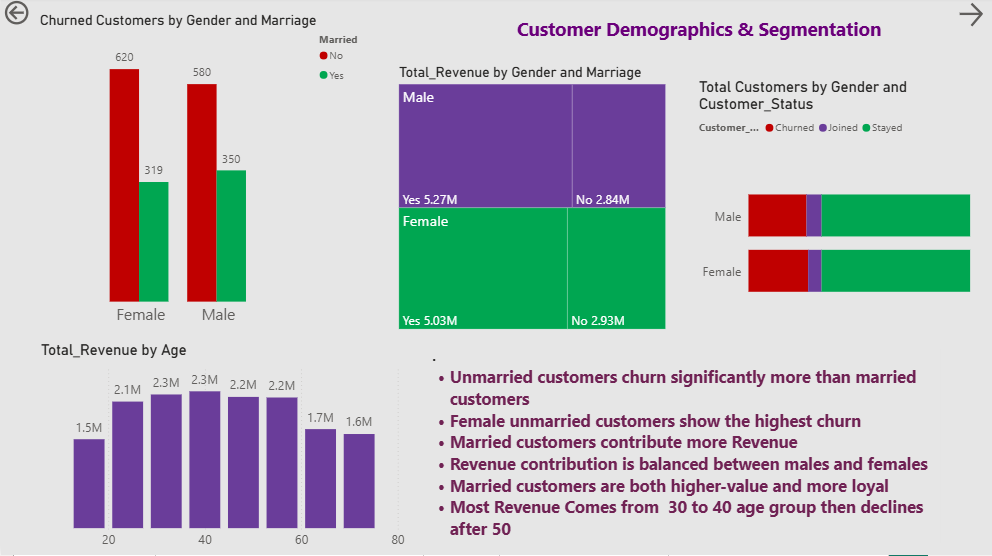

Layout of this report page (visuals, bound fields, positions):
{"tool":"powerbi","page":{"name":" Customer Demographics & Segmentation","canvas":[1280,720],"ordinal":1},"visuals":[{"type":"clusteredColumnChart","title":"Churned Customers by Gender and Marriage","fields":{"Category":["telecom_db telecome_churn.Gender"],"Series":["telecom_db telecome_churn.Married"],"Y":["telecom_db telecome_churn.Churned Customers"]},"box":[44.6,18.7,439.2,414.7],"z":0},{"type":"treemap","title":"Total_Revenue by Gender and Marriage","fields":{"Group":["telecom_db telecome_churn.Gender"],"Details":["telecom_db telecome_churn.Married"],"Values":["Sum(telecom_db telecome_churn.Total_Revenue)"]},"box":[508.3,86.4,354.2,347],"z":1000},{"type":"clusteredColumnChart","title":"Total_Revenue by Age ","fields":{"Category":["telecom_db telecome_churn.Age (bins)"],"Y":["Sum(telecom_db telecome_churn.Total_Revenue)"]},"box":[46.1,443.5,495.4,276.5],"z":2000},{"type":"hundredPercentStackedBarChart","title":"Total  Customers  by Gender and Customer_Status","fields":{"Category":["telecom_db telecome_churn.Gender"],"Series":["telecom_db telecome_churn.Customer_Status"],"Y":["CountNonNull(telecom_db telecome_churn.Customer_ID)"]},"box":[895.7,105.1,360,348.5],"z":3000},{"type":"textbox","box":[650.1,18.8,494.1,47.7],"z":4000},{"type":"textbox","box":[541.9,454.2,669.7,250.3],"z":5000},{"type":"actionButton","box":[1230.9,2.9,49.1,40.5],"z":6000},{"type":"actionButton","box":[0,0,44.8,40.5],"z":7000}]}

Visuals, with their boxes in screenshot pixels (x1, y1, x2, y2), scaled from the page's 1280x720 canvas onto the 992x556 screenshot:
"Churned Customers by Gender and Marriage" clusteredColumnChart: detection(35, 14, 375, 335)
"Total_Revenue by Gender and Marriage" treemap: detection(394, 67, 668, 335)
"Total_Revenue by Age " clusteredColumnChart: detection(36, 342, 420, 555)
"Total  Customers  by Gender and Customer_Status" hundredPercentStackedBarChart: detection(694, 81, 973, 350)
textbox: detection(504, 15, 887, 51)
textbox: detection(420, 351, 939, 544)
actionButton: detection(954, 2, 991, 34)
actionButton: detection(0, 0, 35, 31)
